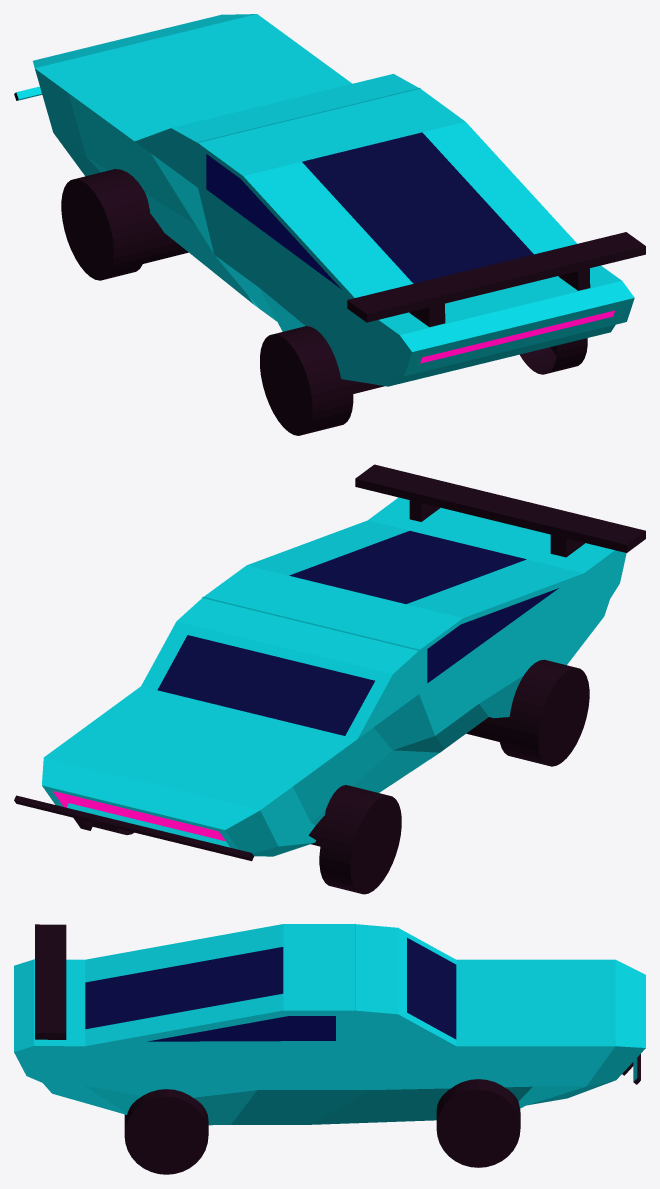
The model's file is enemy.glb.
The picture shows the model from 3 angles, top to bottom: view 1: azimuth 30°, elevation 25°; view 2: azimuth 150°, elevation 25°; view 3: azimuth 270°, elevation 25°; orthographic projection. The views are drawn at different scales.
Visible parts, largest first — view 1: Cube; view 2: Cube; view 3: Cube.
Boxes of the visible parts, x1,y1,x2,y2 form: Cube: (14, 14, 645, 435); Cube: (14, 464, 645, 894); Cube: (14, 923, 645, 1174).
Bounding box in the file's own units: 2.98 × 1.93 × 7.04.
